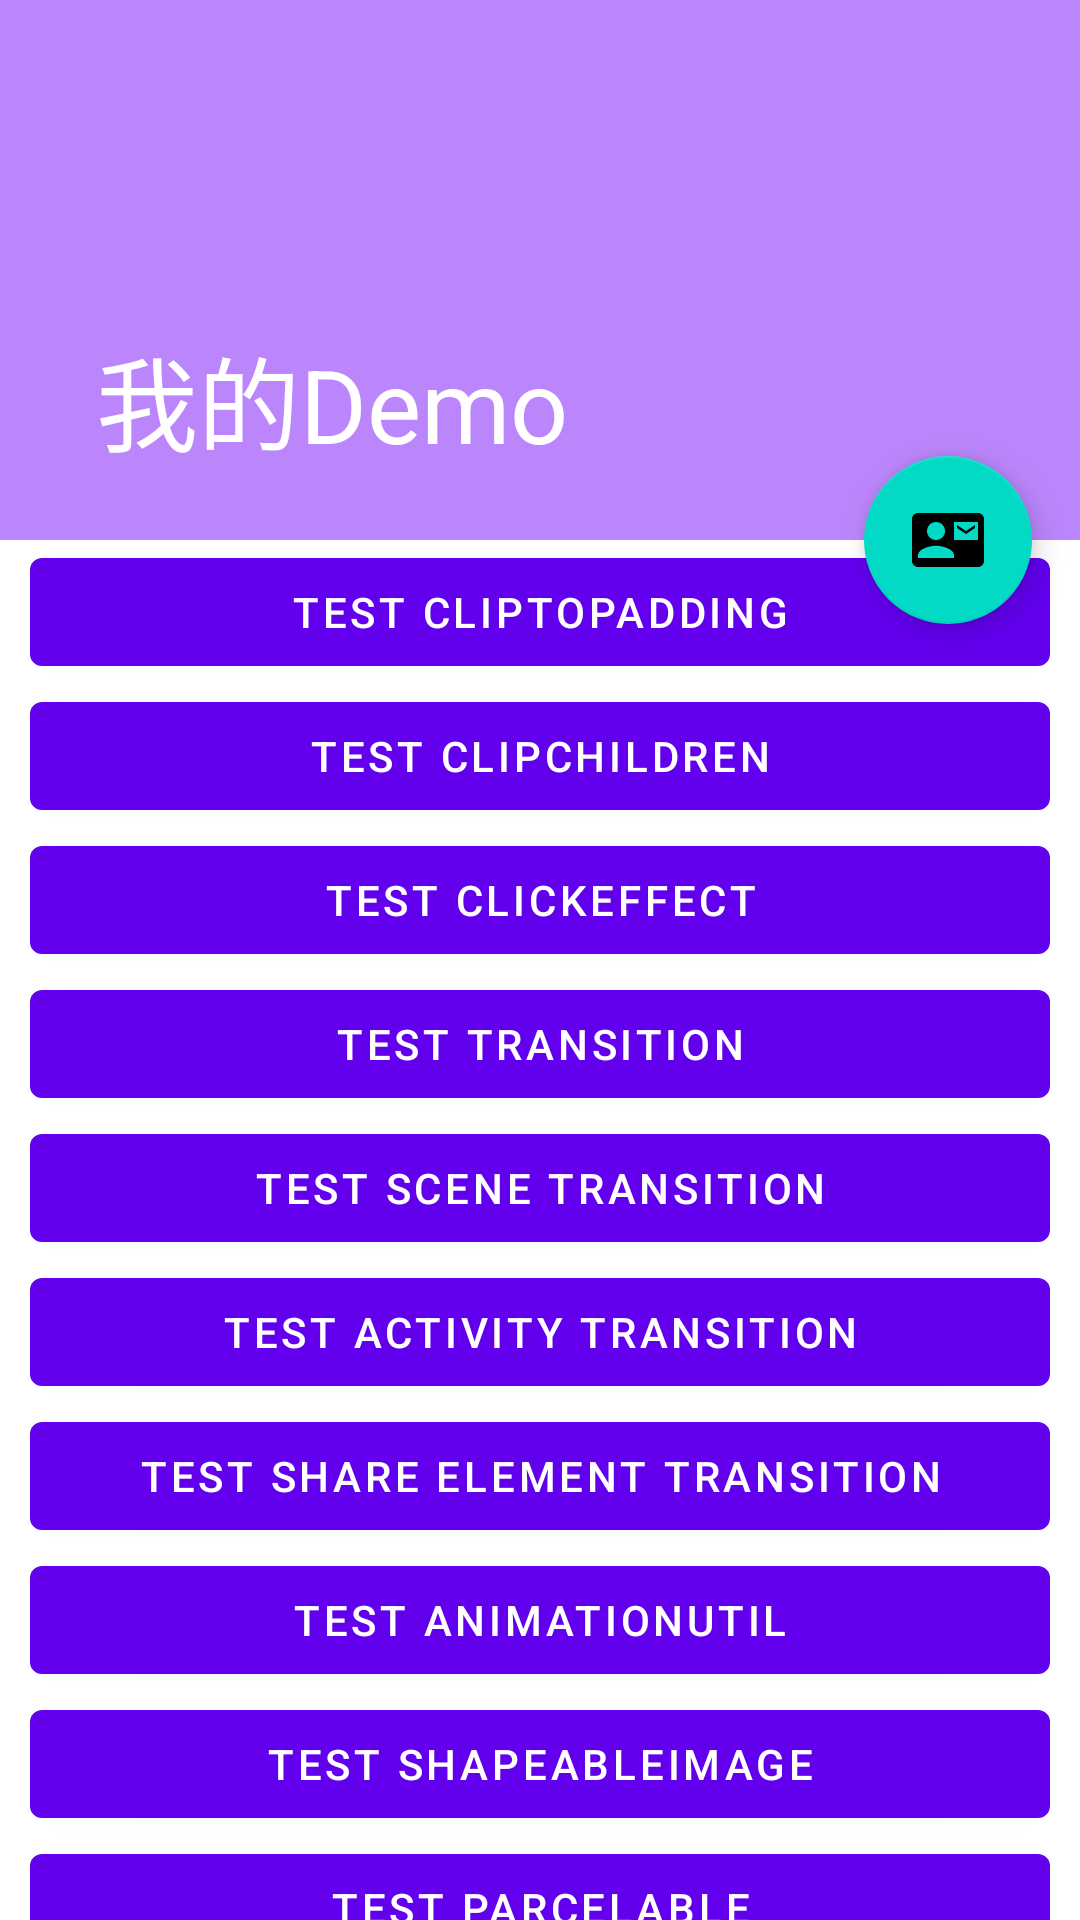

Icons on this 1080px×1920px Android screen, each with the point to tap as (x=x, y=y):
contact mail: (x=948, y=540)
